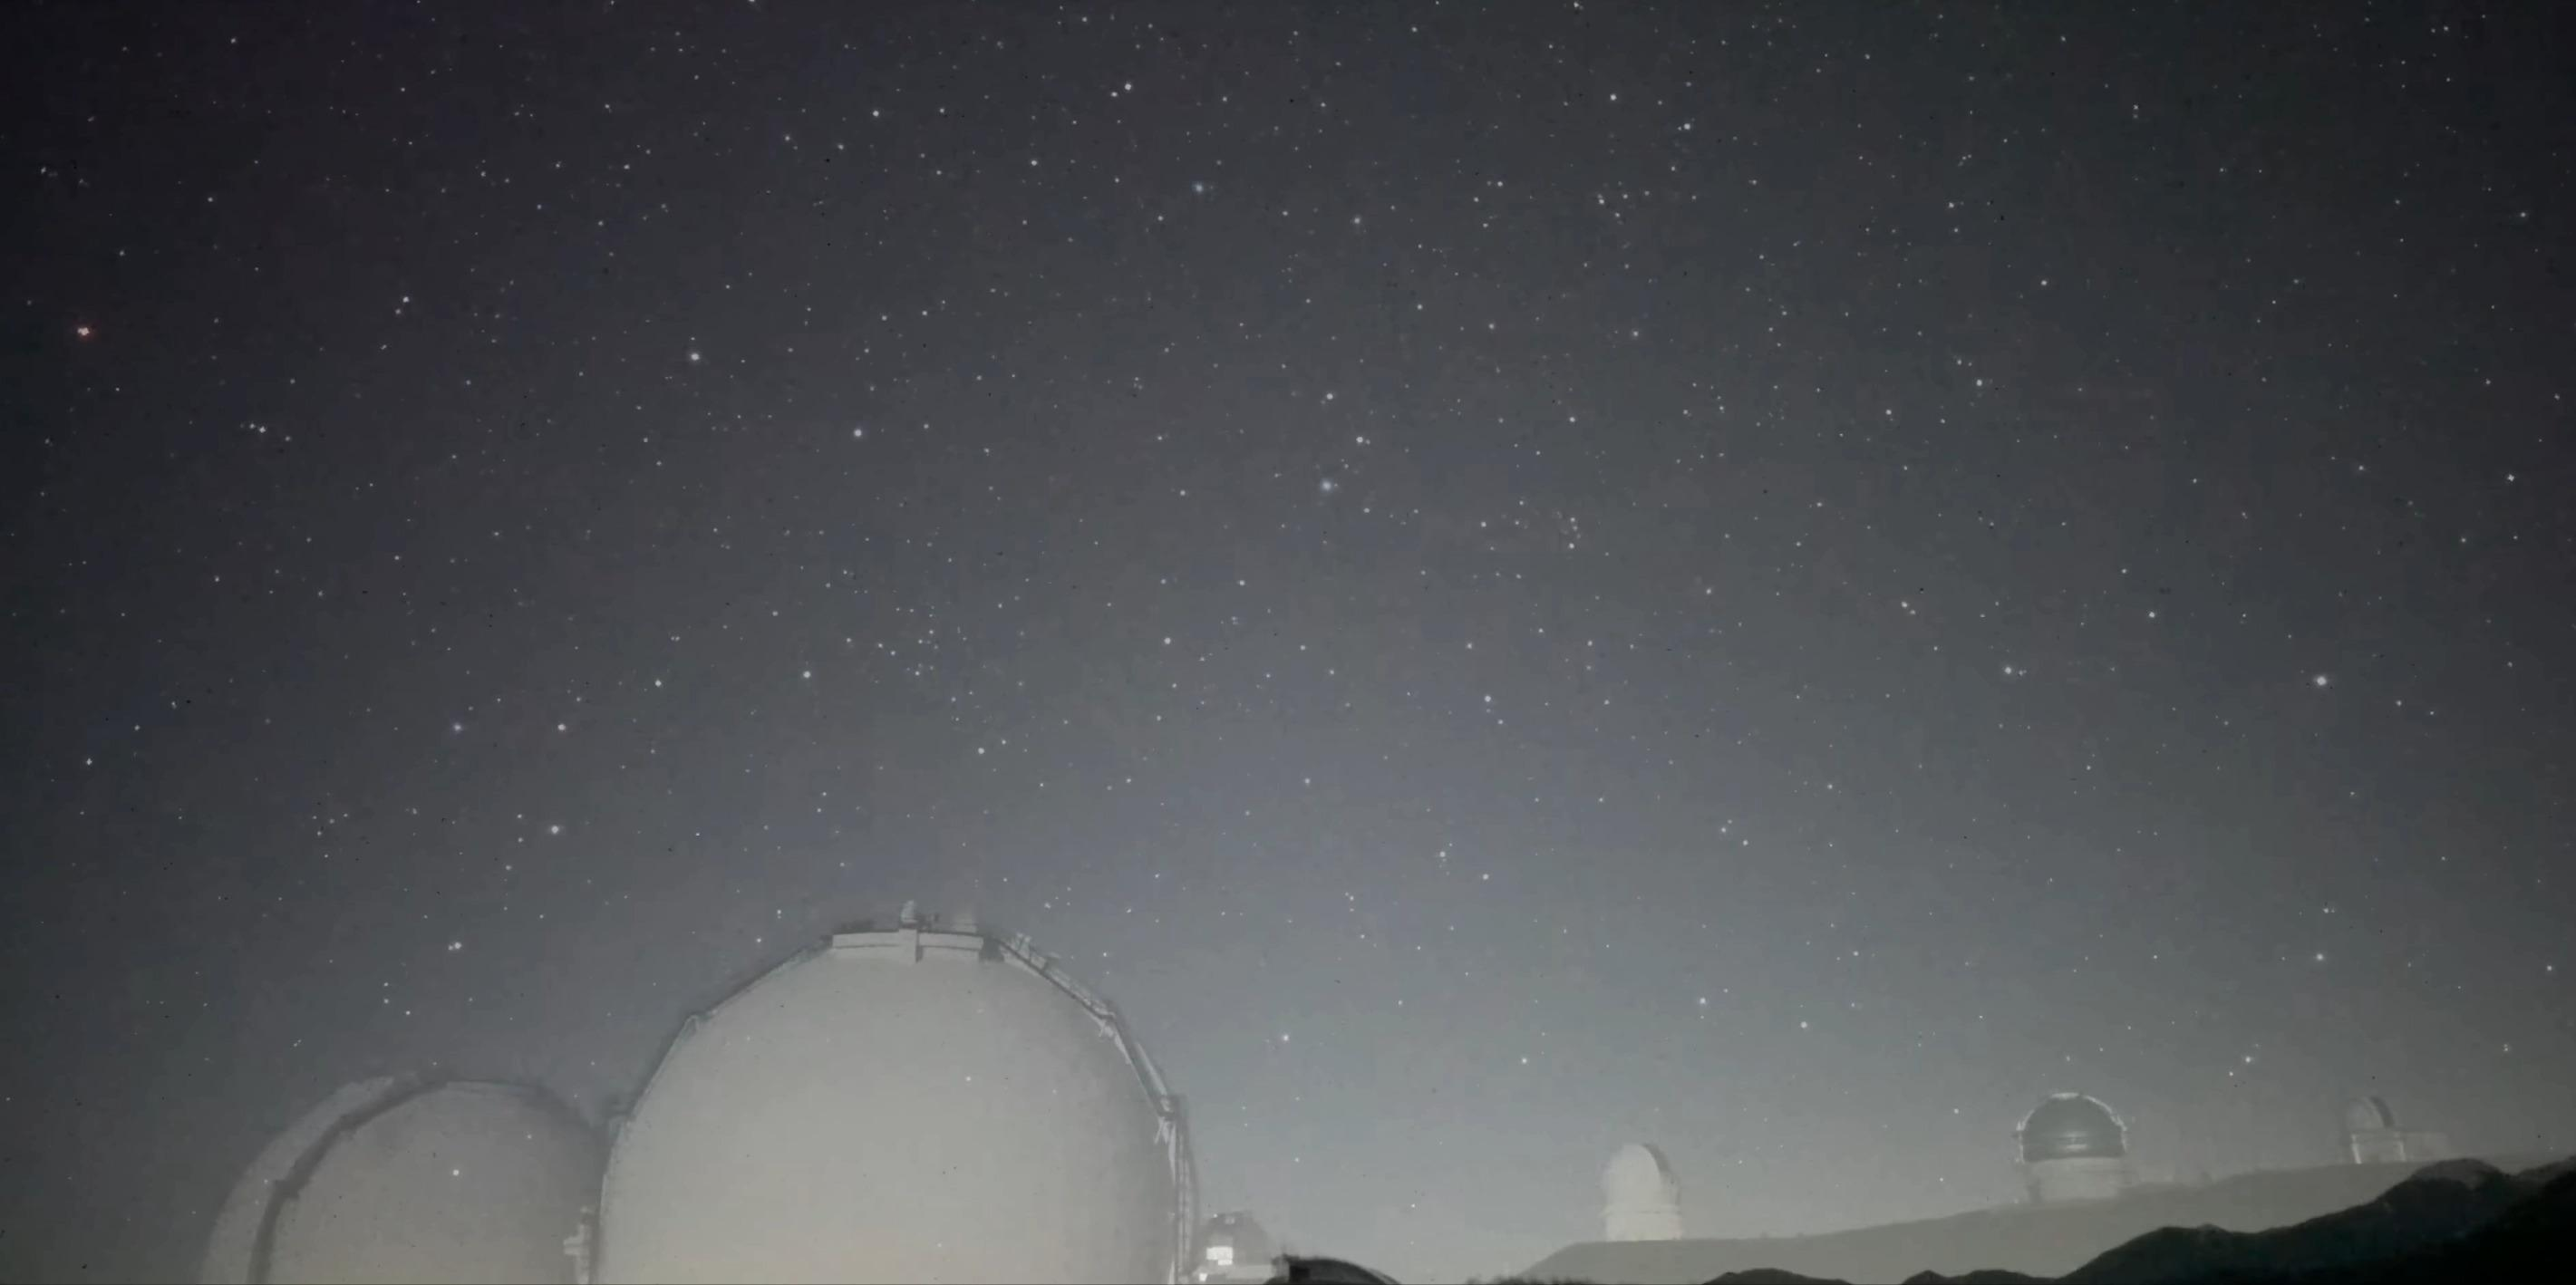Plane: (59, 302, 118, 352)
meteorite: (2037, 1081, 2169, 1147)
